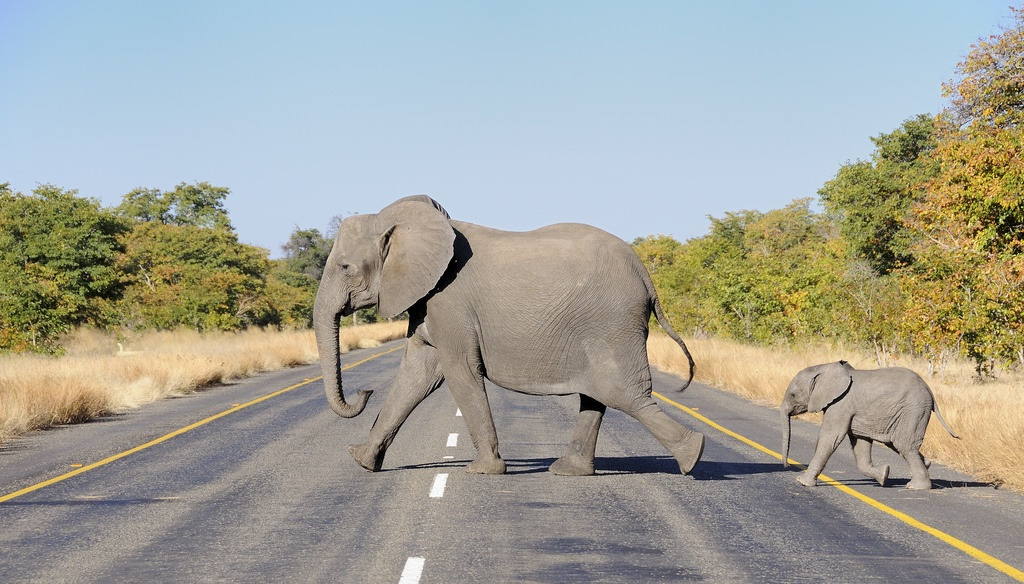elephant: (312, 194, 705, 472), (775, 358, 956, 490)
